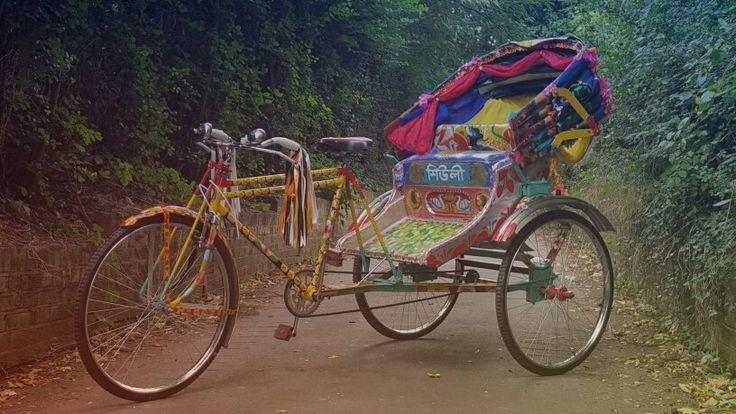Rickshaw: (76, 36, 612, 399)
